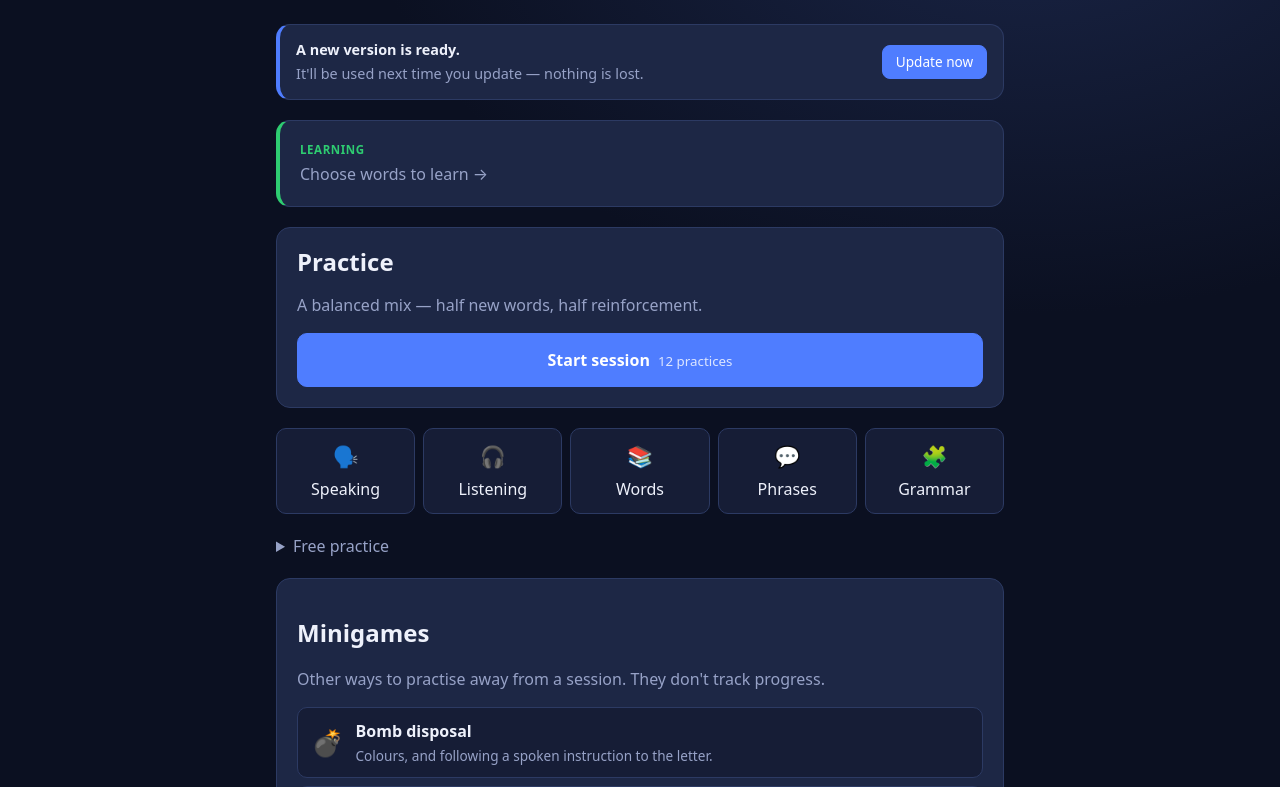
Test: HomeView › marks the update button busy once pressed, so it is not pressed twice
The width and height of the screenshot is (1280, 787).
Click the button with class "apply-update".
click(934, 62)  # box [882,45,987,79]
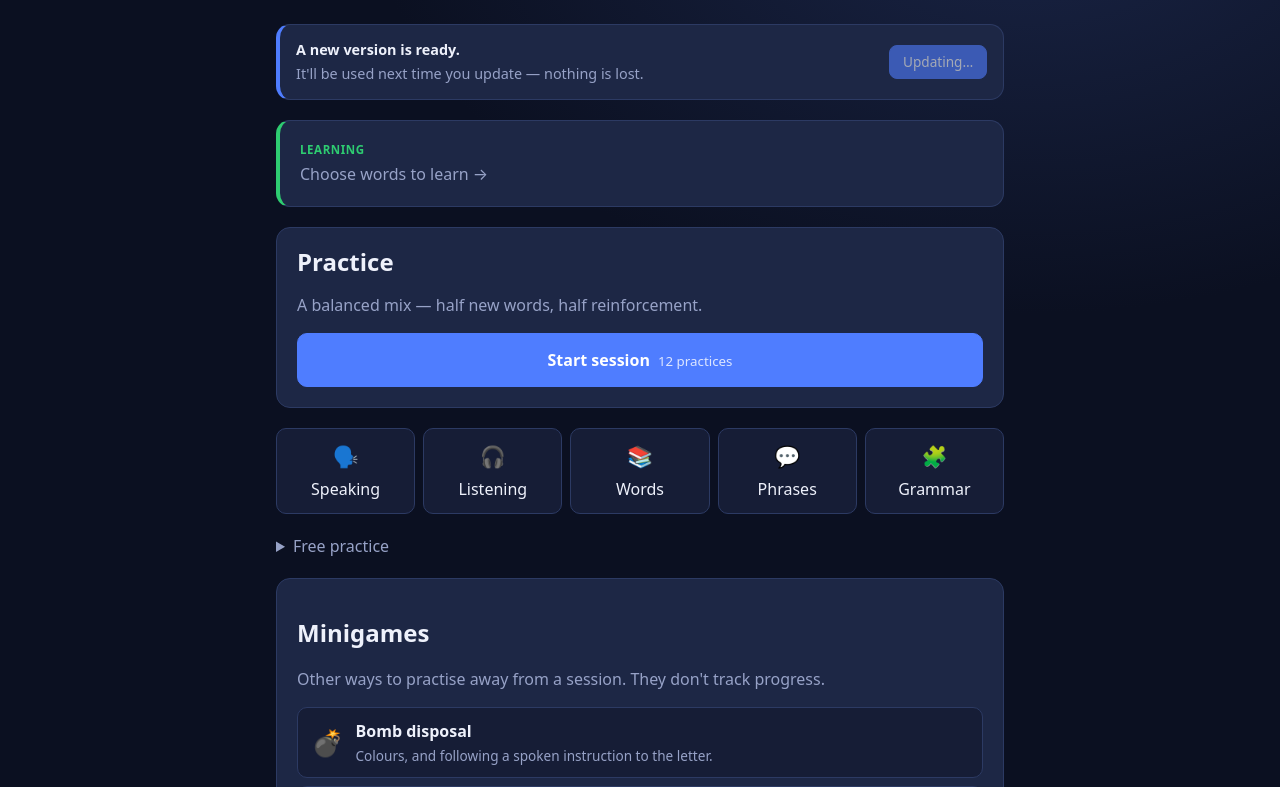
Now the button with class "apply-update" is disabled, box [889,45,987,79]
